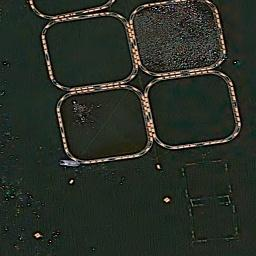square_bigger: (141, 69, 244, 152), (54, 84, 154, 168), (39, 10, 139, 92), (128, 1, 228, 78), (25, 1, 118, 21)
square_locked: (187, 201, 242, 245), (180, 158, 235, 201)
